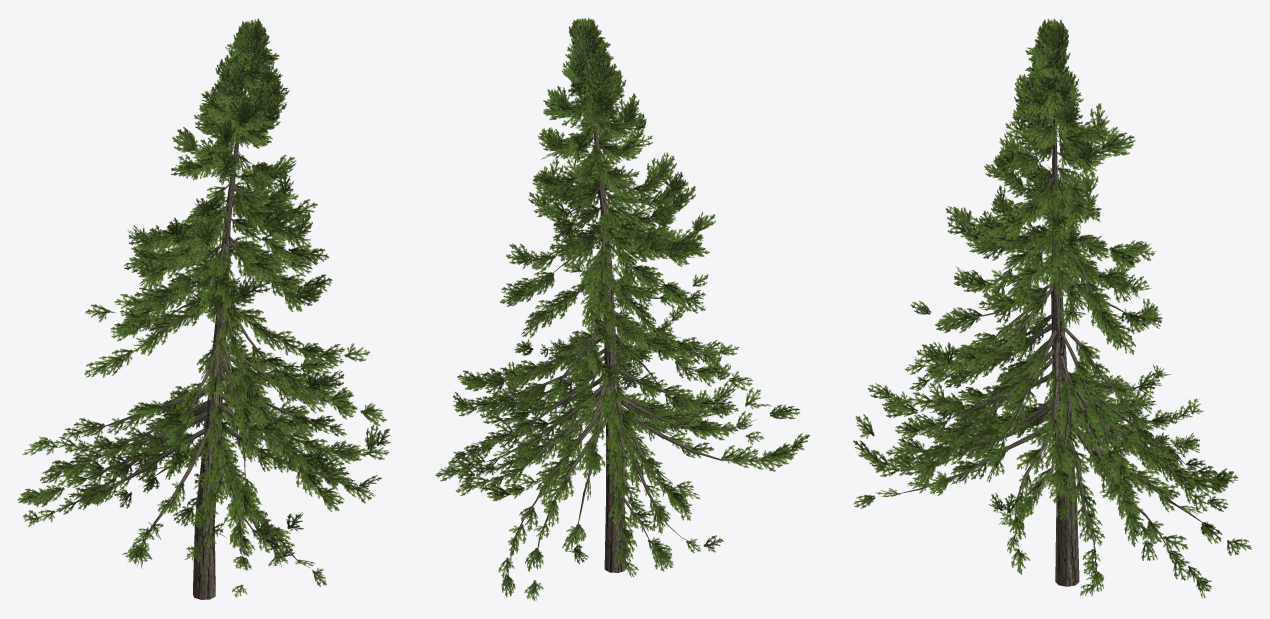
The model's file is pino_grande_3.glb.
The picture shows the model from 3 angles, left to right: view 1: azimuth 30°, elevation 25°; view 2: azimuth 150°, elevation 25°; view 3: azimuth 270°, elevation 25°; orthographic projection. The views are drawn at different scales.
Parts seen in each view (by area): view 1: pino_grande_3_hojas, pino_grande_3_ramas; view 2: pino_grande_3_hojas, pino_grande_3_ramas; view 3: pino_grande_3_hojas, pino_grande_3_ramas.
Boxes of the visible parts, box(x1,y1,x2,y2) form: pino_grande_3_hojas: box(17, 18, 390, 597); pino_grande_3_ramas: box(44, 87, 355, 599); pino_grande_3_hojas: box(435, 17, 809, 600); pino_grande_3_ramas: box(476, 73, 770, 572); pino_grande_3_hojas: box(853, 18, 1251, 598); pino_grande_3_ramas: box(883, 84, 1202, 586).
Bounding box in the file's own units: 12.49 × 21.37 × 13.6.
Materials: 2 (2 with a texture image).
